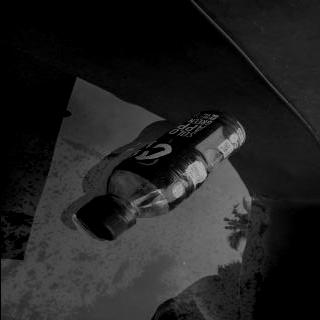bottle: (73, 110, 247, 242)
